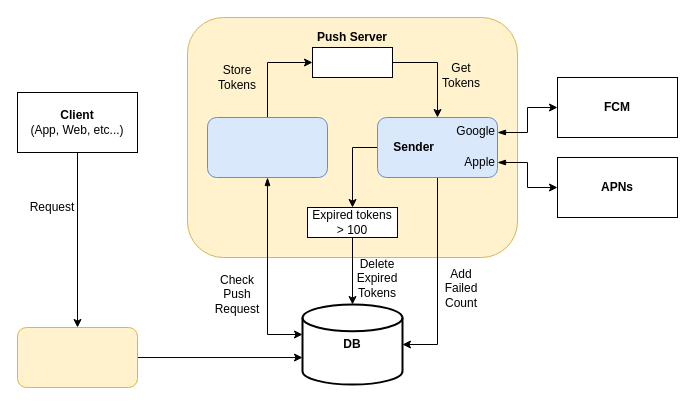
This 695x405 diagram has some shape labels left out. Here are the shapes that lost their labels. From the top down, the centre of each, then its label:
At pixel 352 62: "Queue".
At pixel 267 147: "Scheduler".
At pixel 77 357: "API Server".
